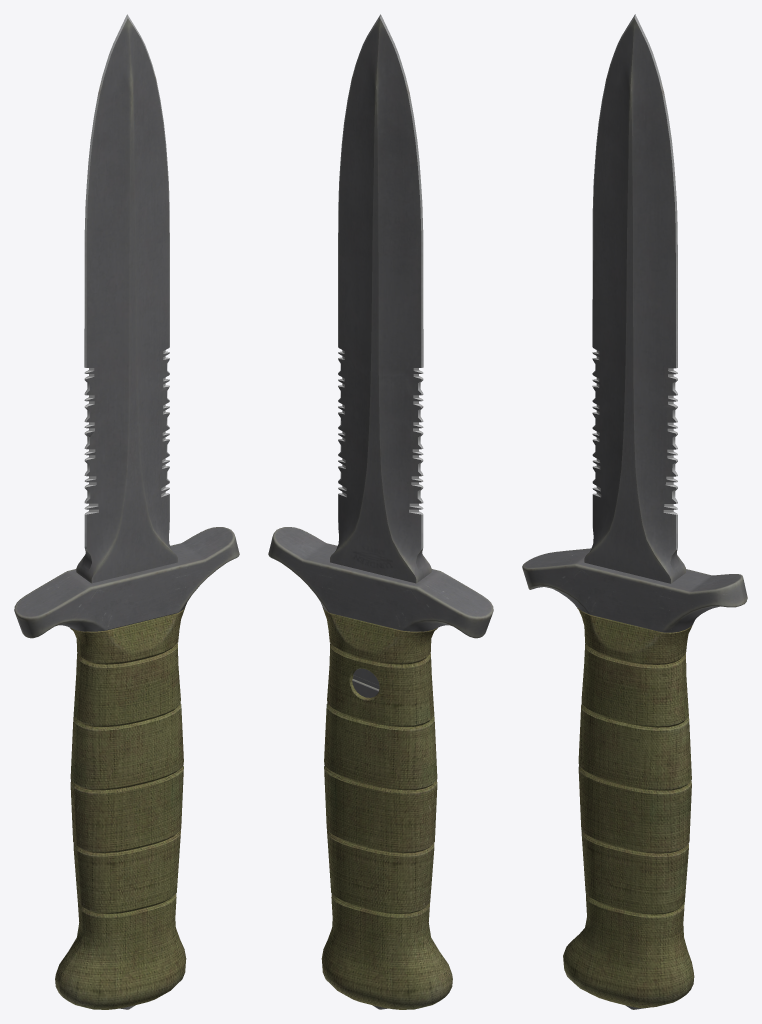
The model's file is gloves_ct.glb.
3 renders of one model, left to right at view 1: azimuth 30°, elevation 25°; view 2: azimuth 150°, elevation 25°; view 3: azimuth 330°, elevation 25°, orthographic.
Parts seen in each view (by area): view 1: weapons/models/knife/knife_default_ct/weapon_knife_default_; view 2: weapons/models/knife/knife_default_ct/weapon_knife_default_; view 3: weapons/models/knife/knife_default_ct/weapon_knife_default_.
Boxes of the visible parts, x1,y1,x2,y2 form: weapons/models/knife/knife_default_ct/weapon_knife_default_: [14, 14, 239, 1009]; weapons/models/knife/knife_default_ct/weapon_knife_default_: [268, 14, 493, 1009]; weapons/models/knife/knife_default_ct/weapon_knife_default_: [522, 14, 747, 1009].
Size of the model in its own units: 3.5 by 15.18 by 1.09.
1 material, 1 textured.
